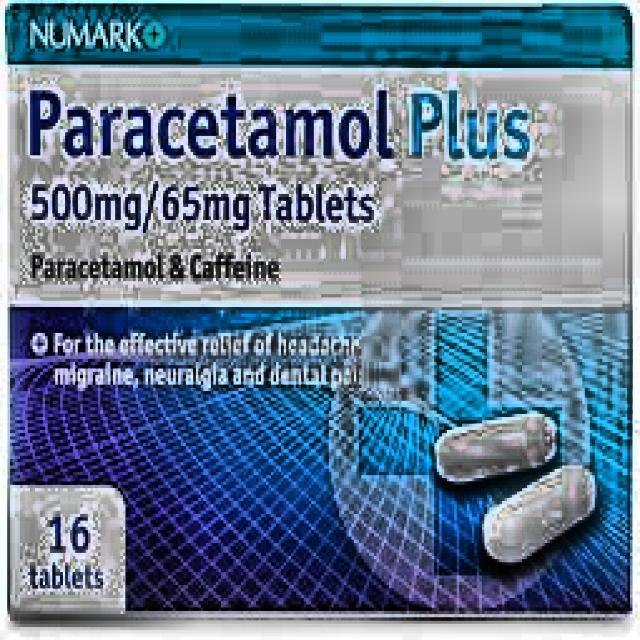Paracetamol: (30, 76, 540, 206)
